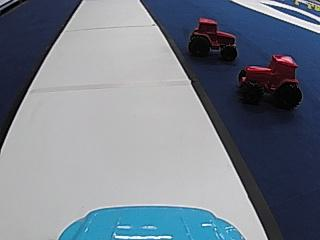Tracktor: (237, 50, 301, 109), (187, 15, 238, 60)
